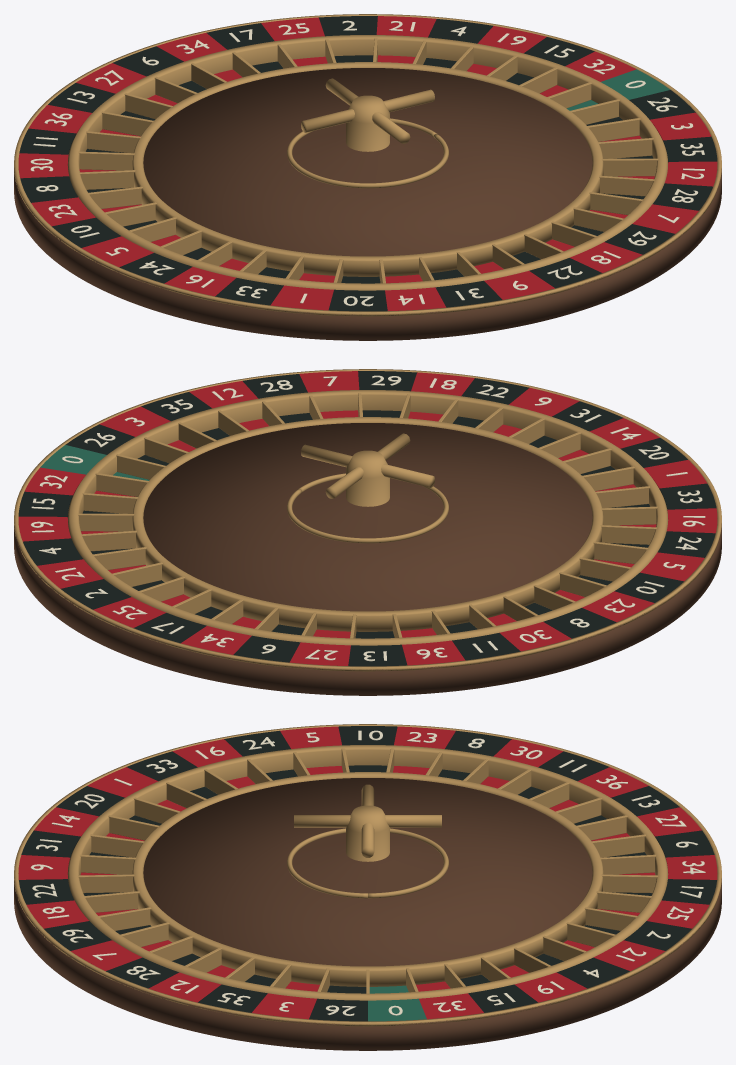
Rendered from roulette-wheel.glb.
3 renders of one model, top to bottom at view 1: azimuth 30°, elevation 25°; view 2: azimuth 150°, elevation 25°; view 3: azimuth 270°, elevation 25°, orthographic.
Visible parts, largest first — view 1: Meridian walnut.001, Meridian brushed bronze.001, Meridian roulette red.001, Meridian charcoal.001, Meridian ivory marking.001, Meridian gaming felt.001; view 2: Meridian walnut.001, Meridian brushed bronze.001, Meridian roulette red.001, Meridian charcoal.001, Meridian ivory marking.001, Meridian gaming felt.001; view 3: Meridian walnut.001, Meridian brushed bronze.001, Meridian roulette red.001, Meridian charcoal.001, Meridian ivory marking.001, Meridian gaming felt.001.
Part boxes in pixels (<box>): Meridian walnut.001: <box>14,68,721,340</box>; Meridian brushed bronze.001: <box>14,14,721,316</box>; Meridian roulette red.001: <box>18,16,717,310</box>; Meridian charcoal.001: <box>19,16,717,311</box>; Meridian ivory marking.001: <box>30,20,704,306</box>; Meridian gaming felt.001: <box>567,69,670,110</box>; Meridian walnut.001: <box>14,423,721,695</box>; Meridian brushed bronze.001: <box>14,369,721,671</box>; Meridian roulette red.001: <box>18,371,717,665</box>; Meridian charcoal.001: <box>18,371,716,666</box>; Meridian ivory marking.001: <box>31,375,705,661</box>; Meridian gaming felt.001: <box>40,445,149,480</box>; Meridian walnut.001: <box>14,778,721,1050</box>; Meridian brushed bronze.001: <box>14,724,721,1026</box>; Meridian roulette red.001: <box>18,726,717,1019</box>; Meridian charcoal.001: <box>19,726,716,1021</box>; Meridian ivory marking.001: <box>30,730,705,1015</box>; Meridian gaming felt.001: <box>368,985,426,1021</box>.
Size of the model in its own units: 1.58 by 0.22 by 1.58.
